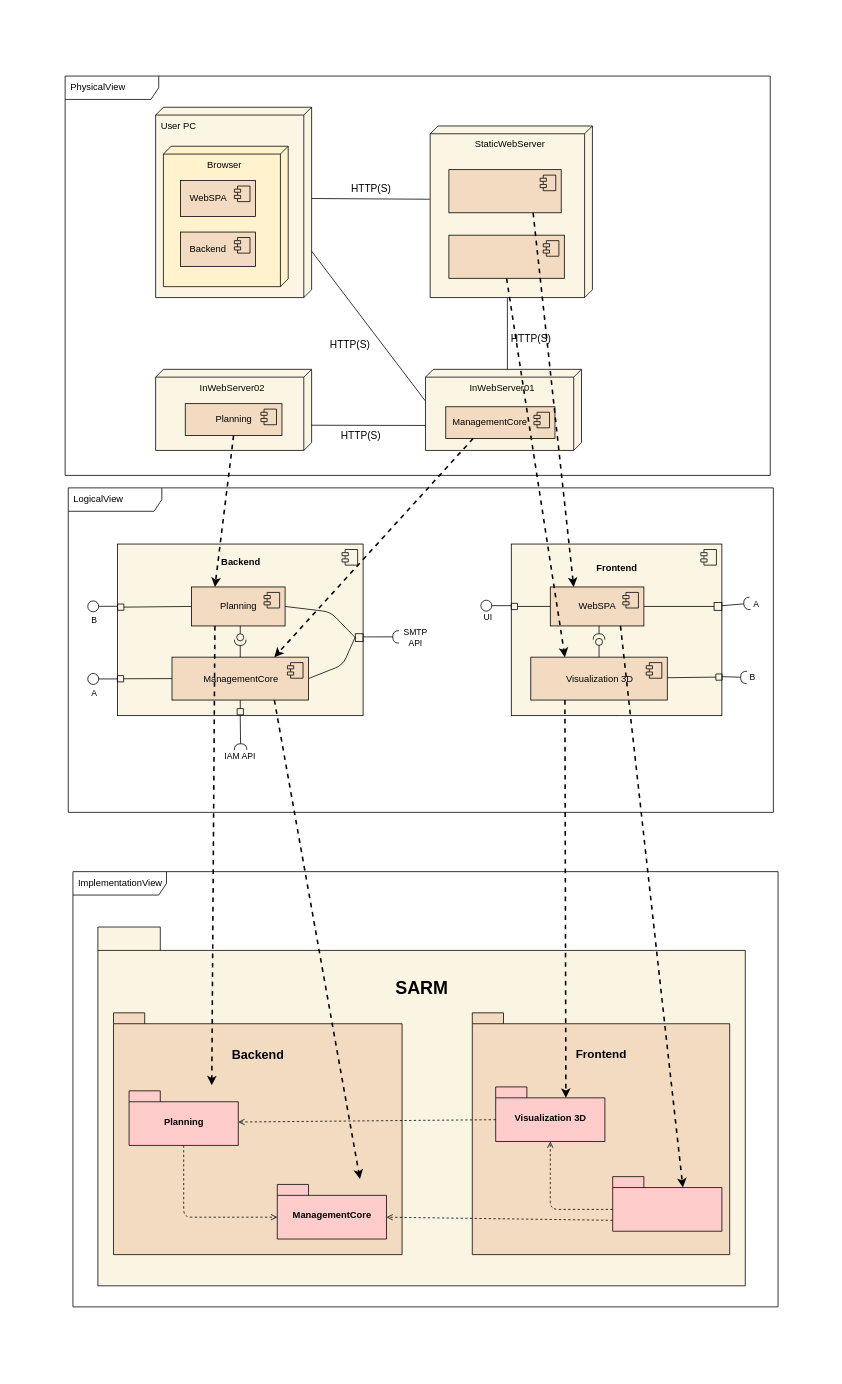
This 842x1384 diagram has some shape labels left out. Here are the shapes that lost their labels. From the top down, the centre of each, then its label:
At (504,191): "«Artifacts» WebSPA".
At (506,256): "«Artifacts» 3D Visualization".
At (667,1203): "Web SPA".
